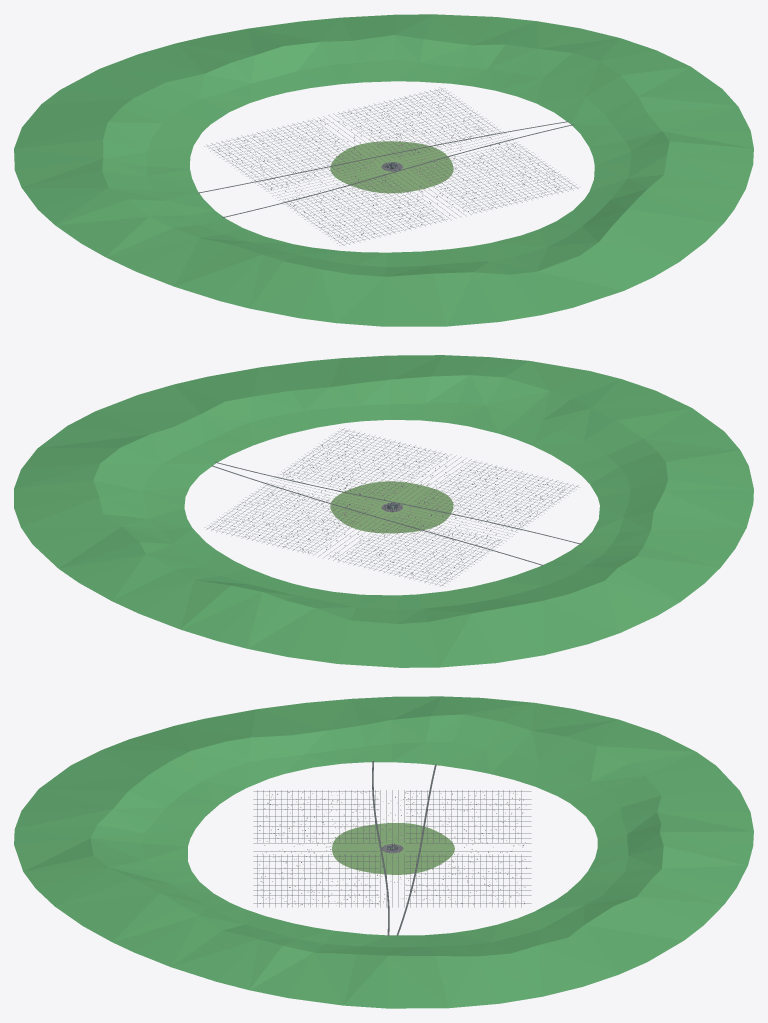
File: petronas-skyline-mobile.glb
3 renders of one model, top to bottom at view 1: azimuth 30°, elevation 25°; view 2: azimuth 150°, elevation 25°; view 3: azimuth 270°, elevation 25°, orthographic.
Parts seen in each view (by area): view 1: MountainRing360, UrbanRoads.001, TerrainLowPoly; view 2: MountainRing360, UrbanRoads.001, TerrainLowPoly; view 3: MountainRing360, UrbanRoads.001, TerrainLowPoly.
Boxes of the visible parts, x1=… form: MountainRing360: x1=14, y1=14, x2=753, y2=326; UrbanRoads.001: x1=198, y1=87, x2=577, y2=245; TerrainLowPoly: x1=330, y1=141, x2=453, y2=193; MountainRing360: x1=14, y1=355, x2=753, y2=667; UrbanRoads.001: x1=205, y1=428, x2=581, y2=586; TerrainLowPoly: x1=330, y1=481, x2=453, y2=533; MountainRing360: x1=14, y1=696, x2=753, y2=1008; UrbanRoads.001: x1=253, y1=761, x2=531, y2=935; TerrainLowPoly: x1=332, y1=823, x2=454, y2=874.
Size of what is drawn, in the model's own units: 504 by 11.39 by 505.
Materials: 16 (3 with a texture image).
